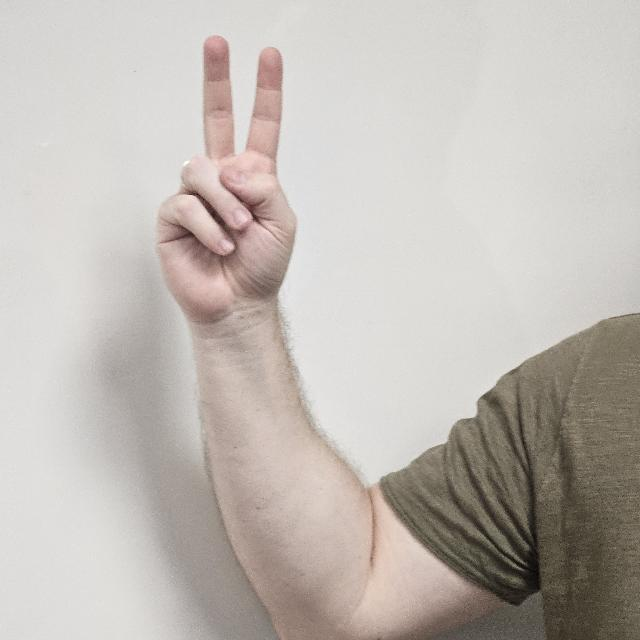Triangulo: (152, 34, 316, 408)
